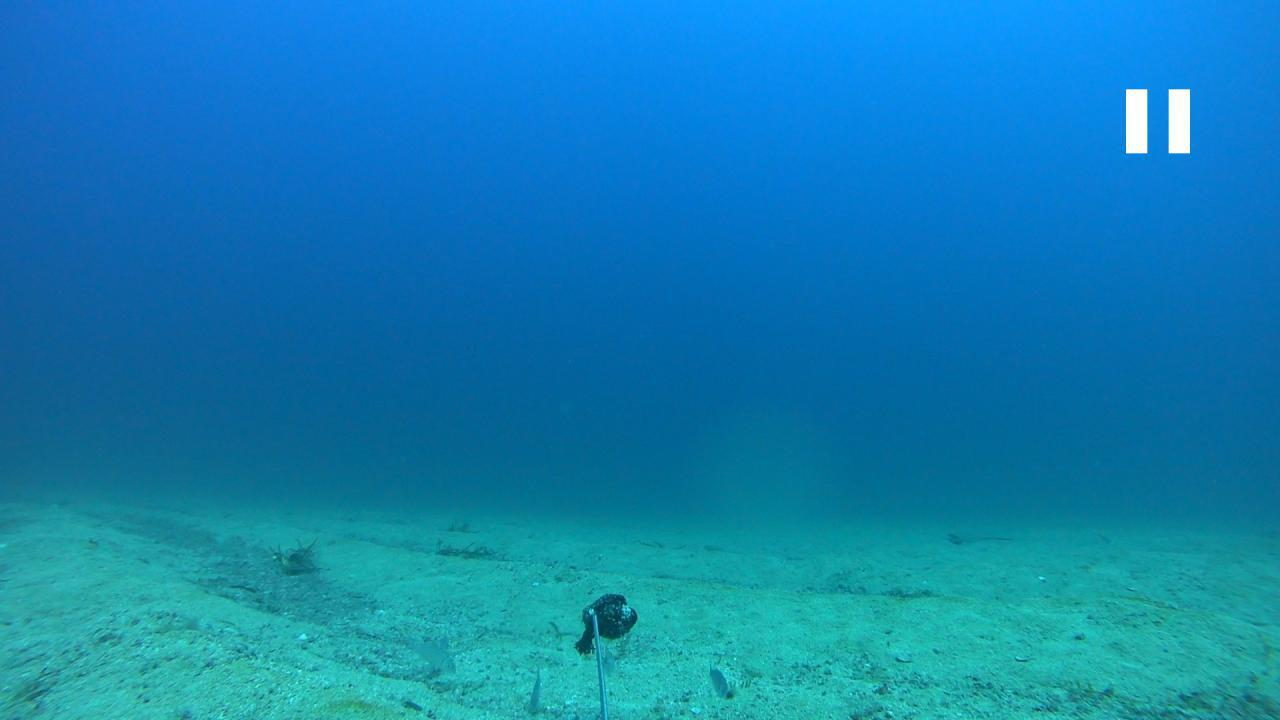dasyatis: (940, 528, 1015, 544)
pagellus: (392, 632, 462, 671), (702, 664, 728, 698)
